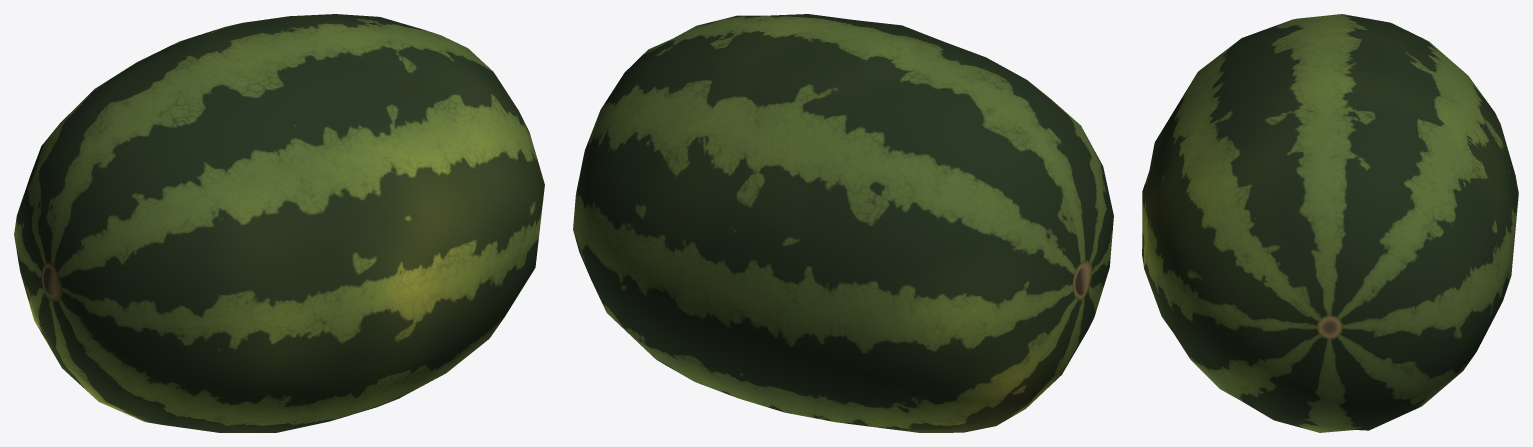
The picture shows the model from 3 angles, left to right: view 1: azimuth 30°, elevation 25°; view 2: azimuth 150°, elevation 25°; view 3: azimuth 270°, elevation 25°; orthographic projection. The views are drawn at different scales.
Parts seen in each view (by area): view 1: WaterMelon low.002; view 2: WaterMelon low.002; view 3: WaterMelon low.002.
Boxes of the visible parts, box(x1,y1,x2,y2) form: WaterMelon low.002: box(14, 14, 544, 432); WaterMelon low.002: box(573, 14, 1113, 432); WaterMelon low.002: box(1142, 14, 1518, 432).
Bounding box in the file's own units: 139 × 104 × 105.
1 material, 1 textured.
